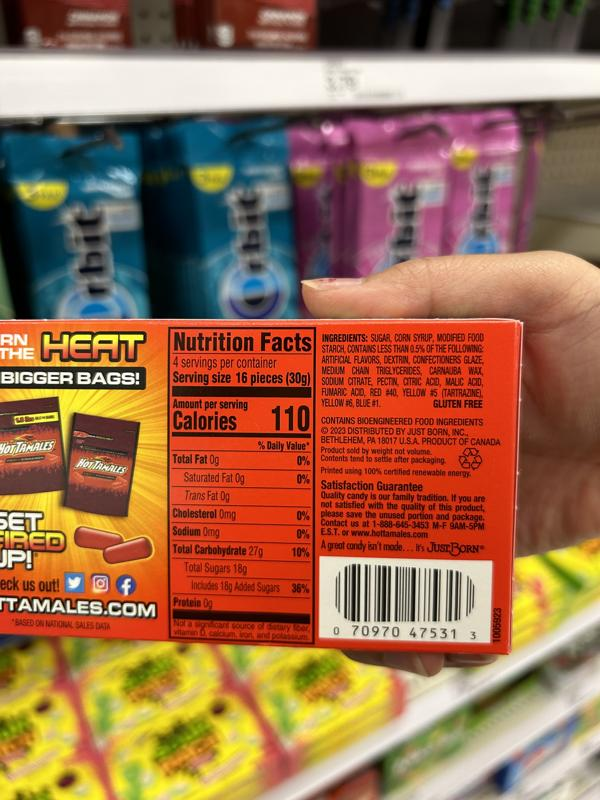ingredients: (319, 331, 487, 413)
